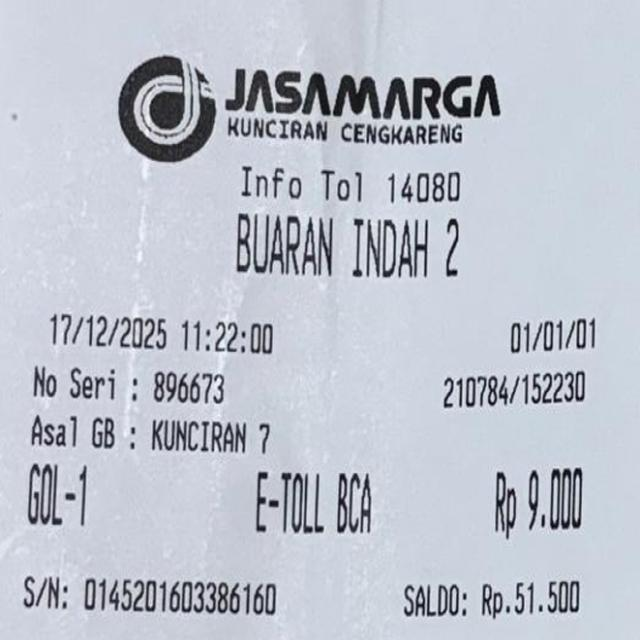date: (32, 310, 297, 362)
store: (209, 69, 506, 149)
total: (472, 468, 602, 542)
